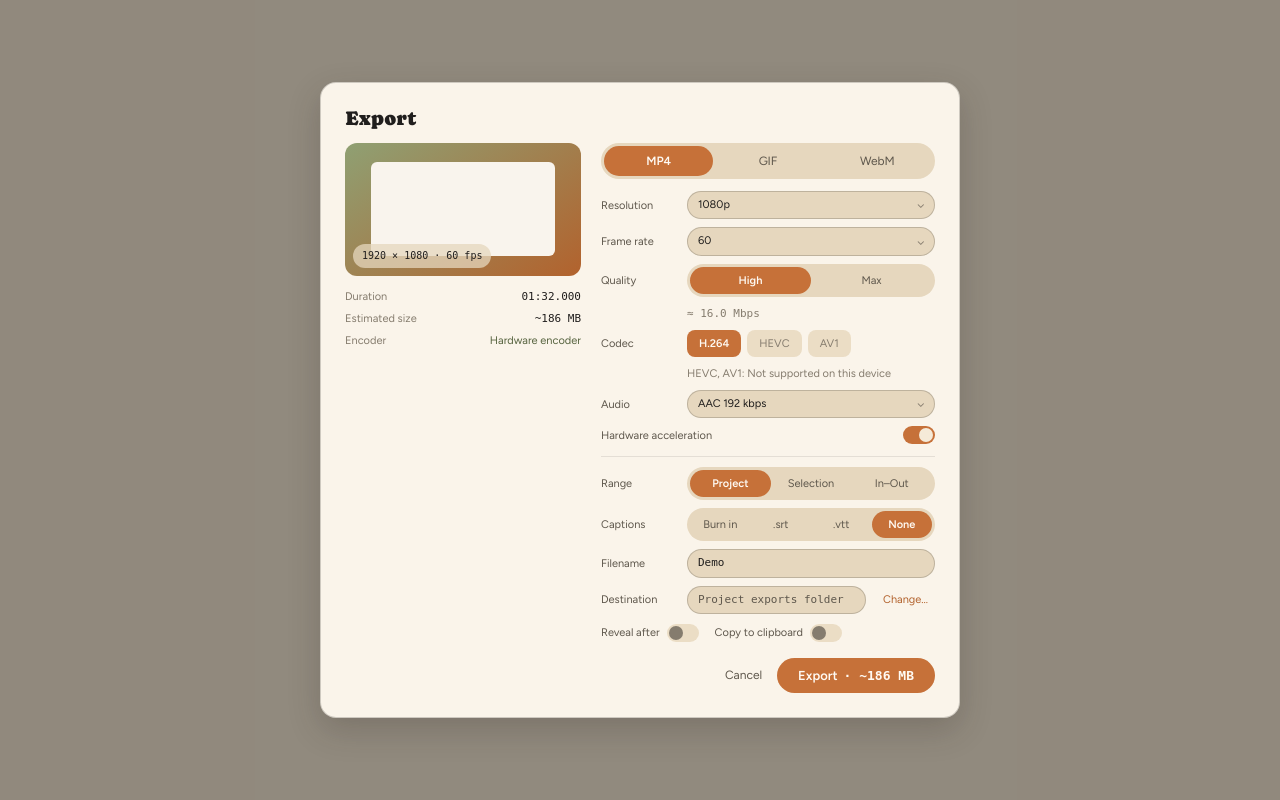
ExportController › marks the session media offline once auto-delete trashed the video
The image size is (1280, 800).
Expected: the text "HEVC, AV1: Not supported on this device" is shown, x1=687 y1=367 x2=891 y2=380
Click the button "Export · ~186 MB": (856, 676) x1=777 y1=658 x2=935 y2=694
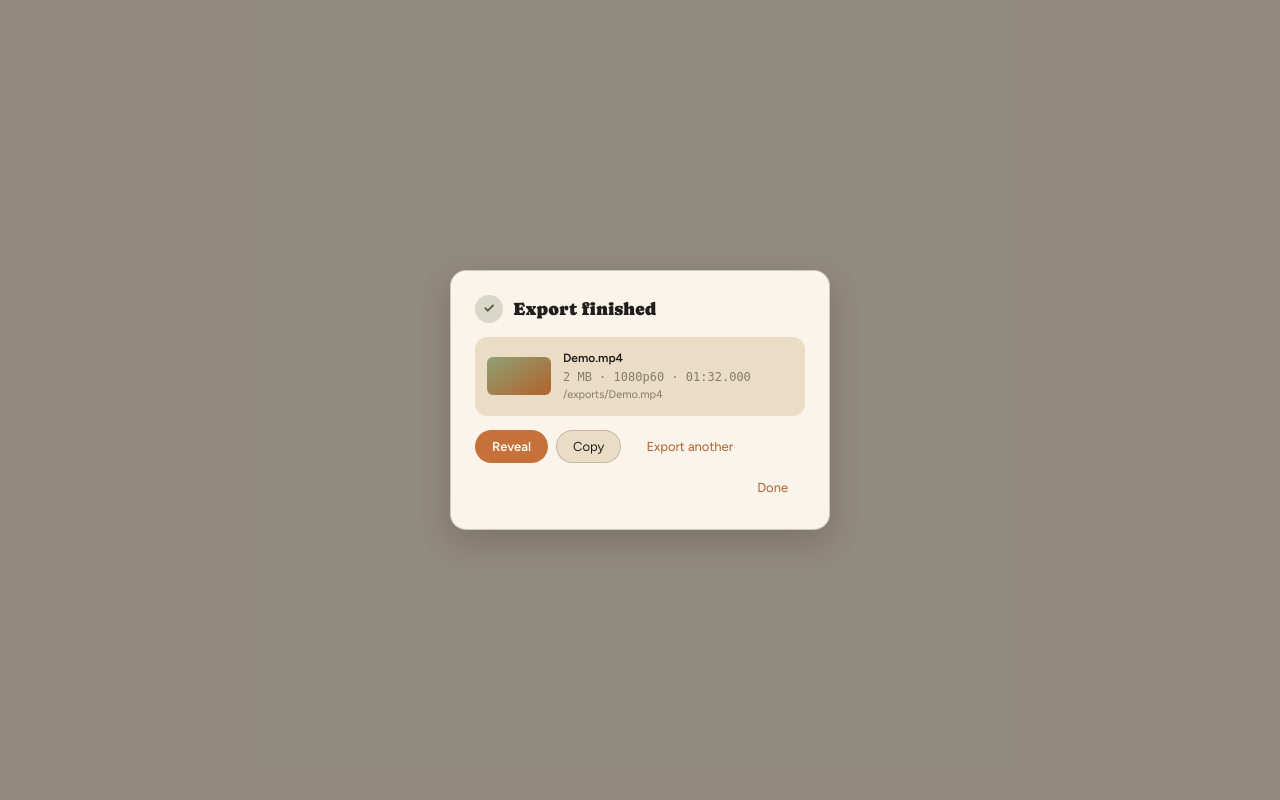
Now the element with test id "export-done" is shown, box x1=475 y1=295 x2=805 y2=505
